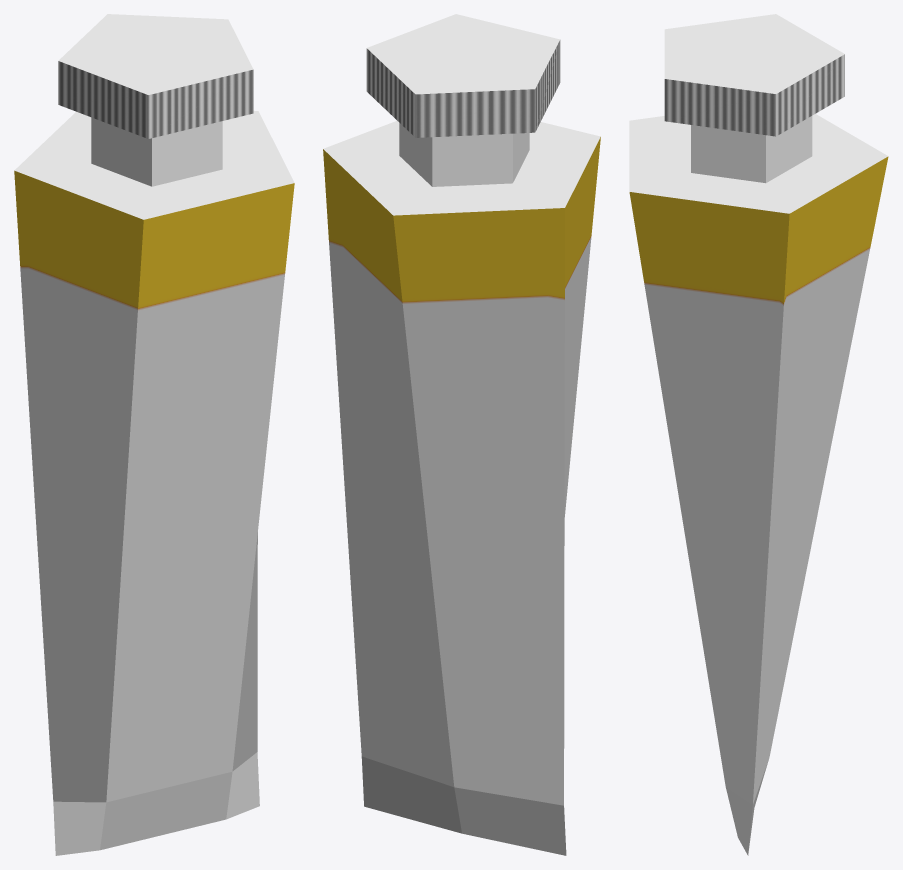
Rendered from dyestuffs_Yellow.fbx.
3 renders of one model, left to right at view 1: azimuth 30°, elevation 25°; view 2: azimuth 150°, elevation 25°; view 3: azimuth 270°, elevation 25°, orthographic. The views are drawn at different scales.
Visible parts, largest first — view 1: Cylinder003; view 2: Cylinder003; view 3: Cylinder003.
Part boxes in pixels (<box>): Cylinder003: <box>14,14,294,855</box>; Cylinder003: <box>323,14,600,855</box>; Cylinder003: <box>629,14,888,855</box>.
Size of the model in its own units: 0.8103 by 2.47 by 0.7707.
1 material, 1 textured.
